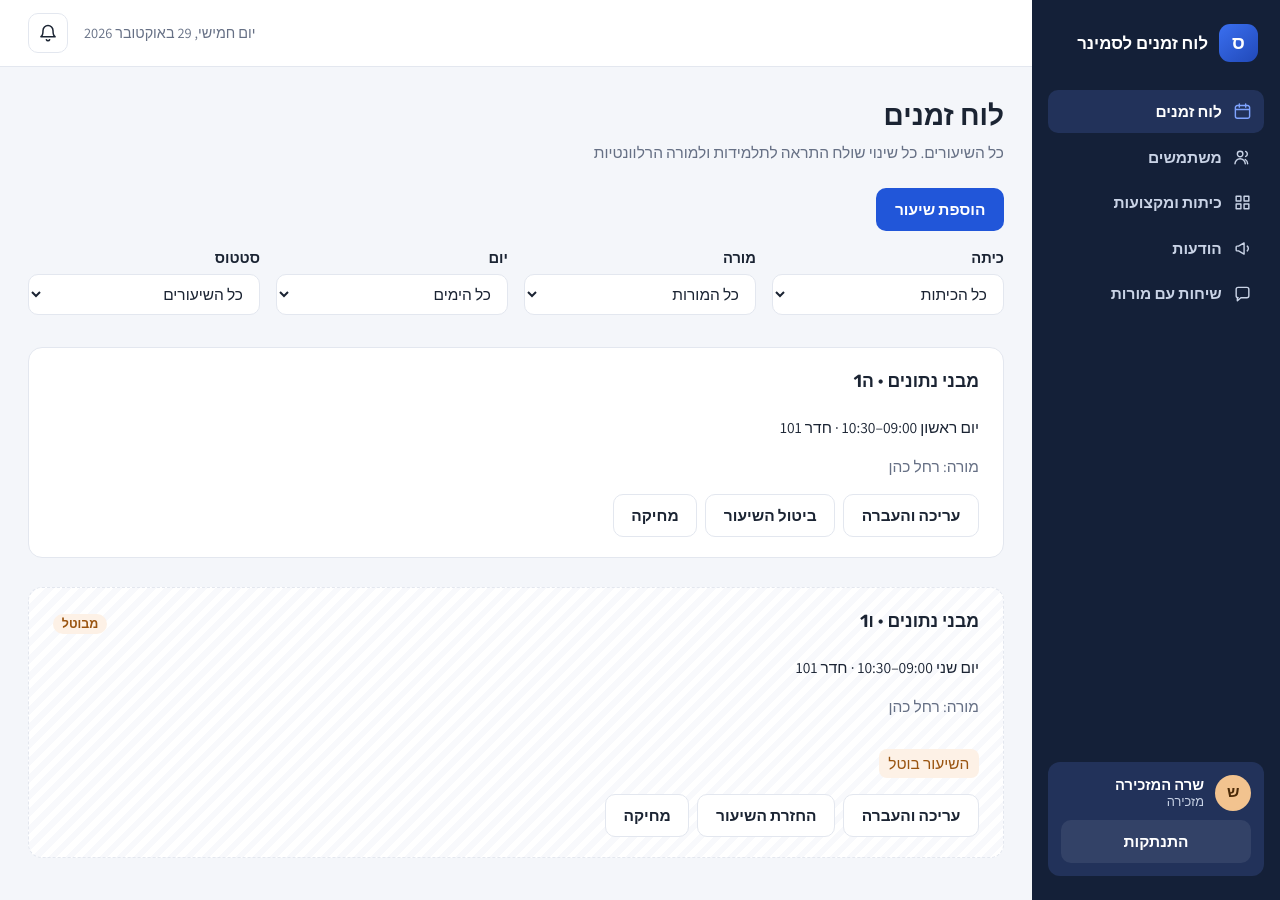
ניהול לוח זמנים › ביטול שיעור דורש אישור, ואז השיעור מסומן כמבוטל
This screenshot has width=1280, height=900.
Check: the heading "מבני נתונים · ה1" is shown, box [854,368,979,395]
Step 1. Click the button "ביטול השיעור" → (770, 515), box [705,494,835,537]
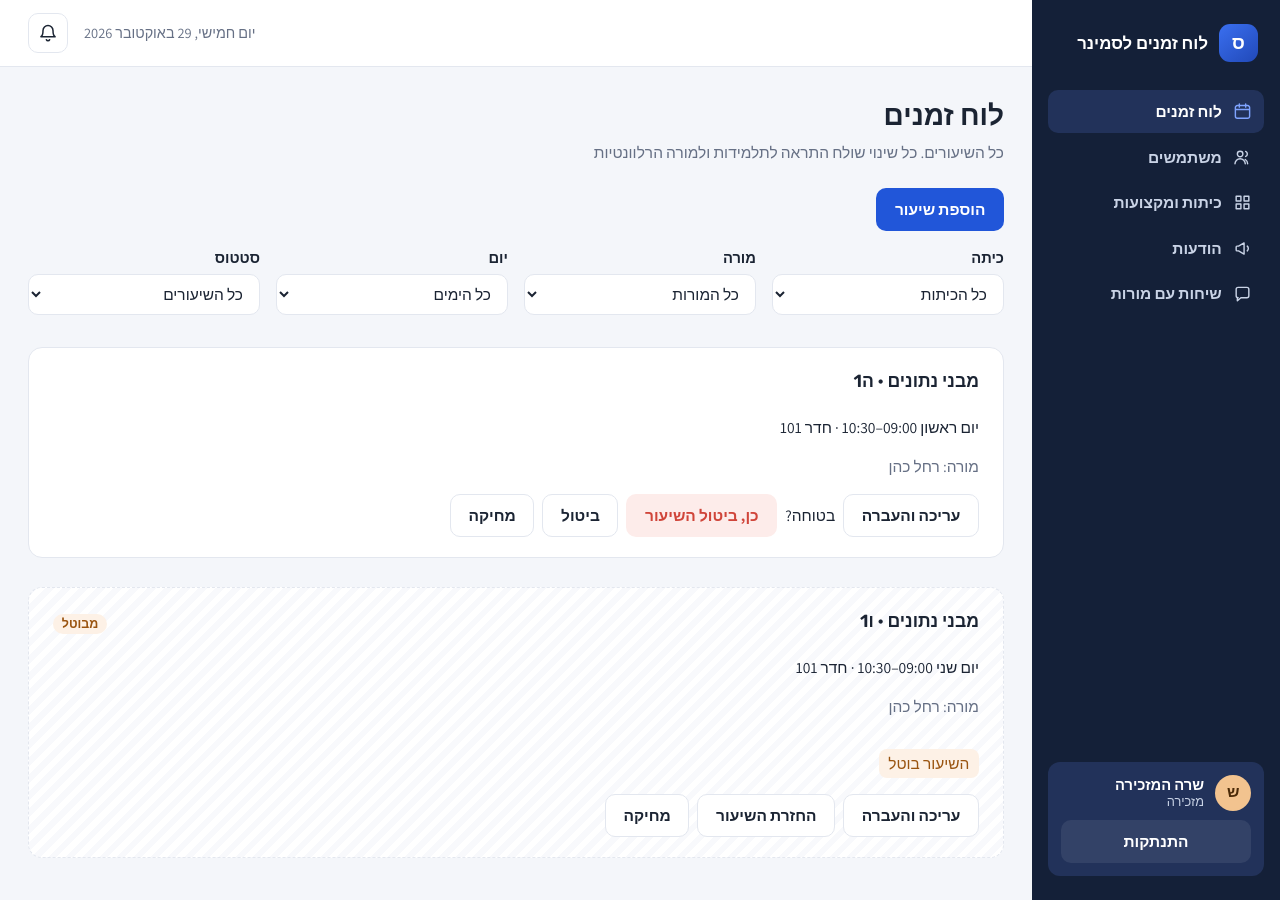
Step 2. Click the button "כן, ביטול השיעור" → (702, 515), box [626,494,777,537]
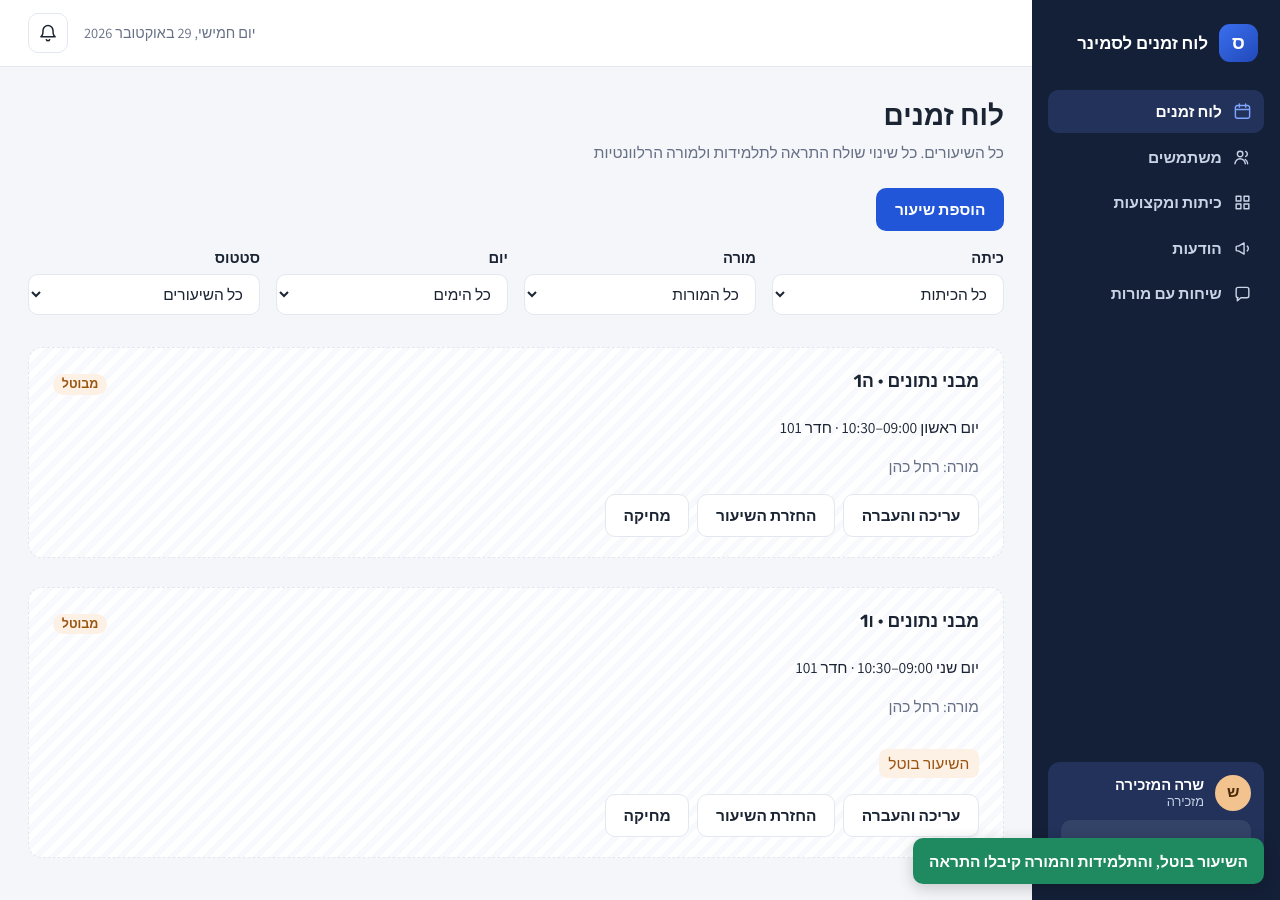
Check: the text "השיעור בוטל, והתלמידות והמורה קיבלו התראה" is shown, box [913,838,1264,884]
Check: the text "מבוטל" in the row of "ה1" is shown, box [62,375,98,392]
